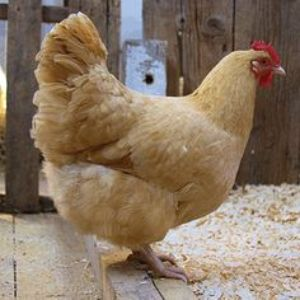hen: (31, 9, 290, 295)
